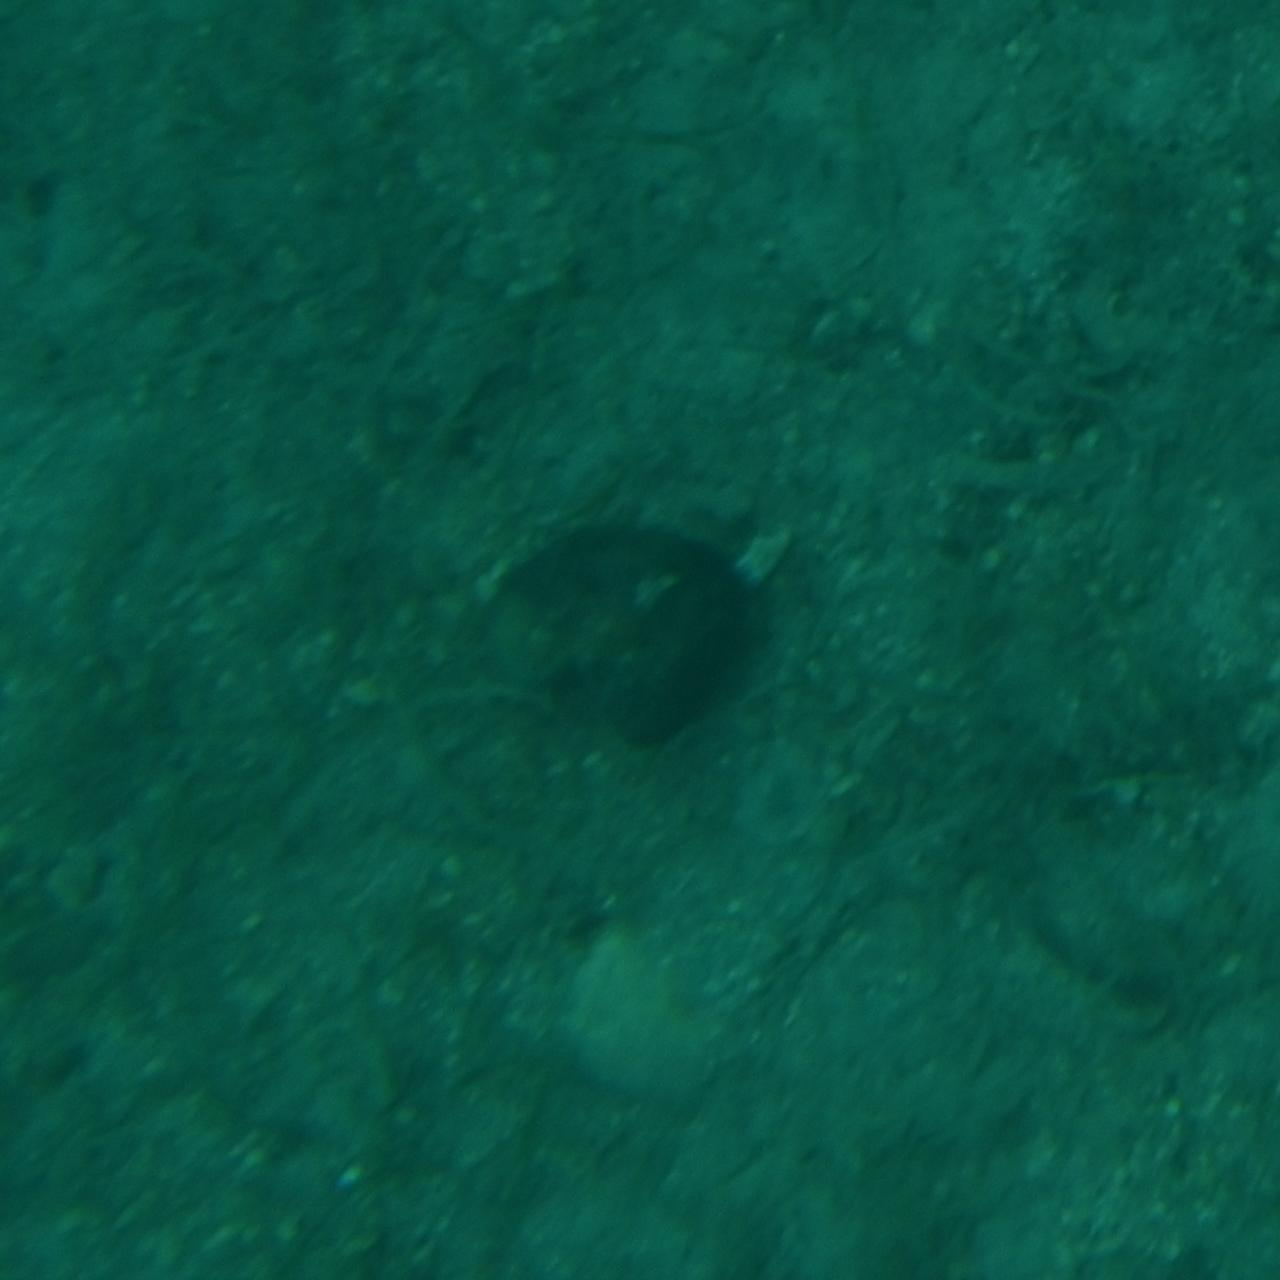Holothuria tubulosa: (475, 516, 805, 764)
